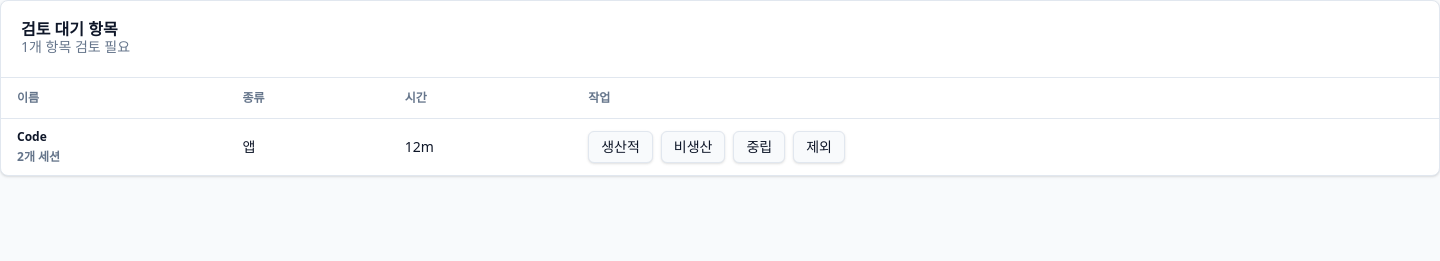
it: UncategorizedReview › removes an aggregated target after a quick rule is created
The width and height of the screenshot is (1440, 261).
Expected: the text "2개 세션" is shown, [17,148,60,164]
Click the button "생산적" at {"x": 620, "y": 146}, box [588,130,653,162]
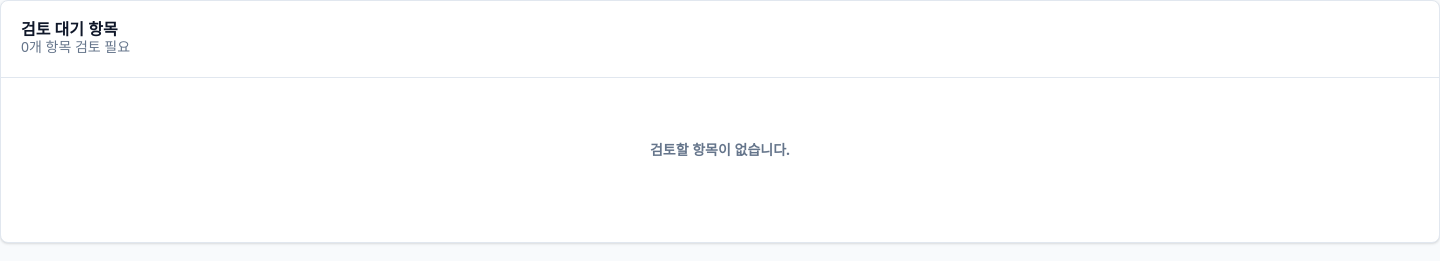
Result: the text "Code" is gone
Result: the text "0개 항목 검토 필요" is shown at [21,37,130,56]
Result: the text "검토할 항목이 없습니다." is shown at [650,140,790,159]
